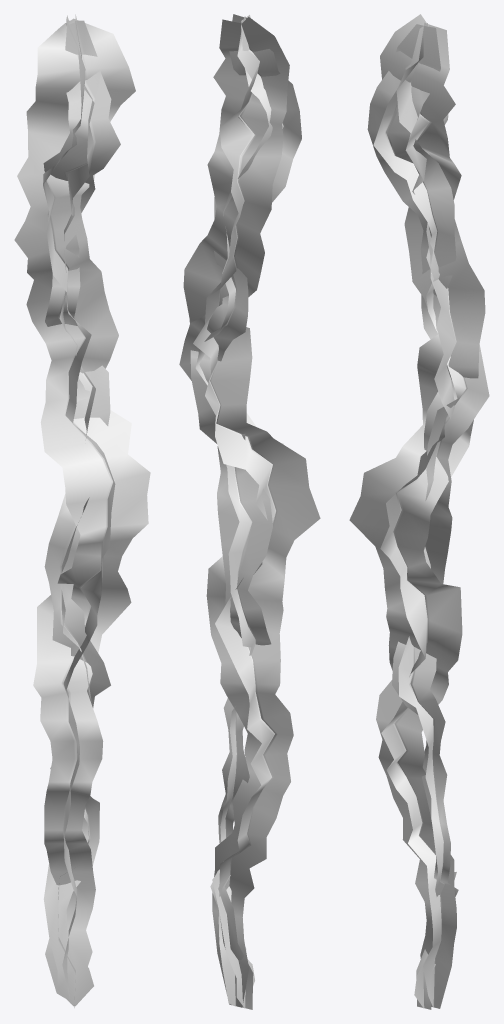
File: magic_eletric01.fbx
3 views of the same model, side by side, from view 1: azimuth 90°, elevation 25°; view 2: azimuth 150°, elevation 25°; view 3: azimuth 330°, elevation 25° (orthographic).
Parts seen in each view (by area): view 1: LODGroup_1_MainMesh_1_SubMesh_1, LODGroup_1_MainMesh_2_SubMesh_1; view 2: LODGroup_1_MainMesh_1_SubMesh_1, LODGroup_1_MainMesh_2_SubMesh_1; view 3: LODGroup_1_MainMesh_1_SubMesh_1, LODGroup_1_MainMesh_2_SubMesh_1.
Part boxes in pixels (x1,y1,x2,y2): LODGroup_1_MainMesh_1_SubMesh_1: [14, 15, 150, 998]; LODGroup_1_MainMesh_2_SubMesh_1: [43, 14, 120, 1007]; LODGroup_1_MainMesh_1_SubMesh_1: [183, 16, 320, 1007]; LODGroup_1_MainMesh_2_SubMesh_1: [179, 14, 301, 1009]; LODGroup_1_MainMesh_1_SubMesh_1: [349, 14, 485, 1008]; LODGroup_1_MainMesh_2_SubMesh_1: [367, 23, 489, 1009].
Bounding box in the file's own units: 76.71 × 605 × 75.37.
